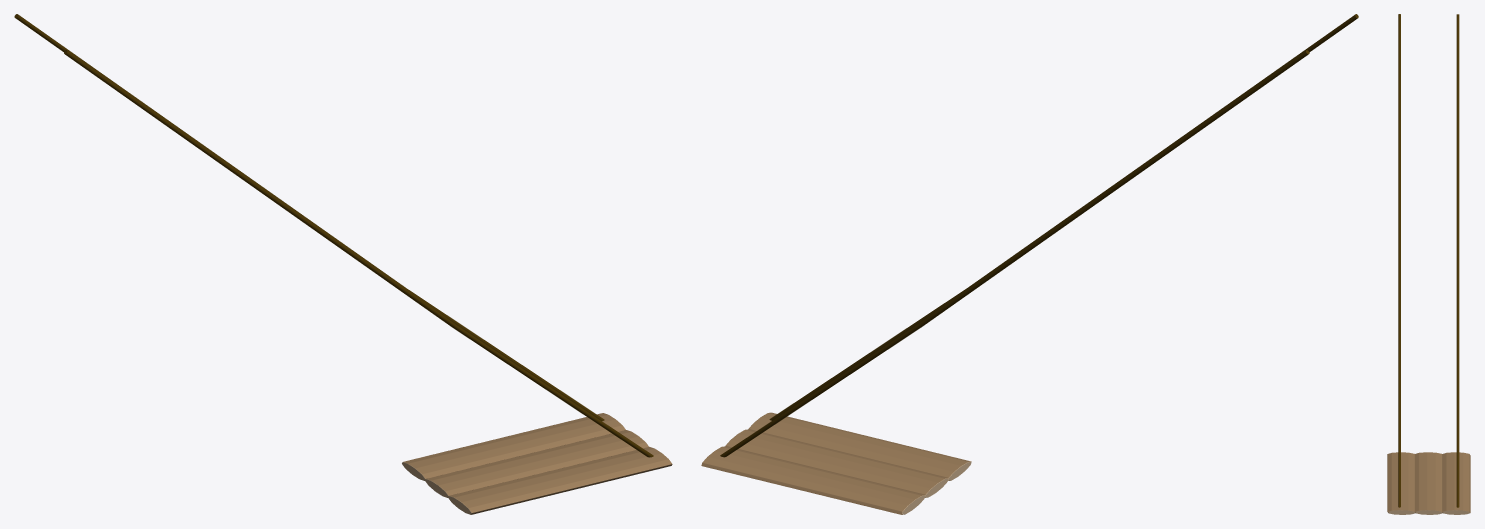
The model's file is palanque bem grandão 2.fbx.
The picture shows the model from 3 angles, left to right: view 1: azimuth 30°, elevation 25°; view 2: azimuth 150°, elevation 25°; view 3: azimuth 270°, elevation 25°; orthographic projection. The views are drawn at different scales.
Visible parts, largest first — view 1: Object_5.013; view 2: Object_5.013; view 3: Object_5.013.
Part boxes in pixels (bbox=[...]): Object_5.013: bbox=[14, 14, 672, 514]; Object_5.013: bbox=[701, 14, 1358, 514]; Object_5.013: bbox=[1387, 14, 1470, 514].
Size of the model in its own units: 1034 by 920 by 210.
